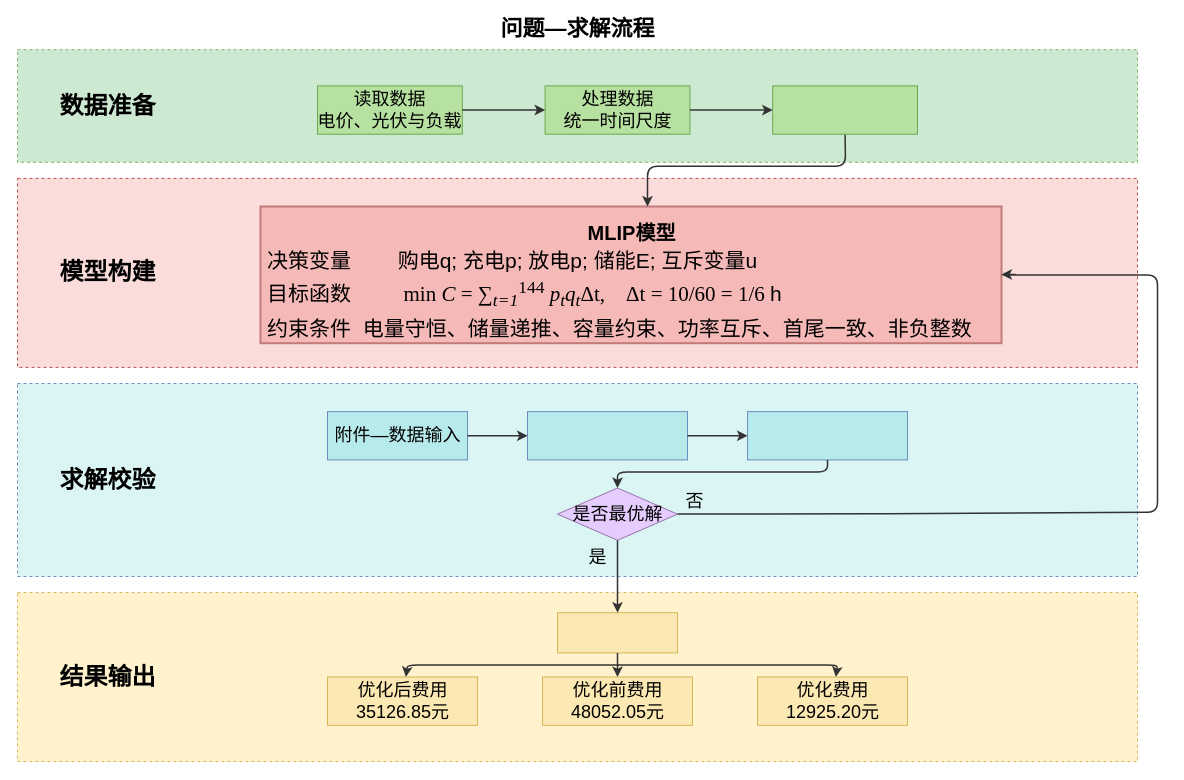
This 1184x780 diagram has some shape labels left out. The centre of each missing label's shape, as x and y in pixels:
"HiGHS求解" goes at point (607, 435).
"约束与最优性校验" goes at point (827, 435).
"结果" goes at point (617, 632).
"转换单位 功率换算为电量" goes at point (845, 109).
